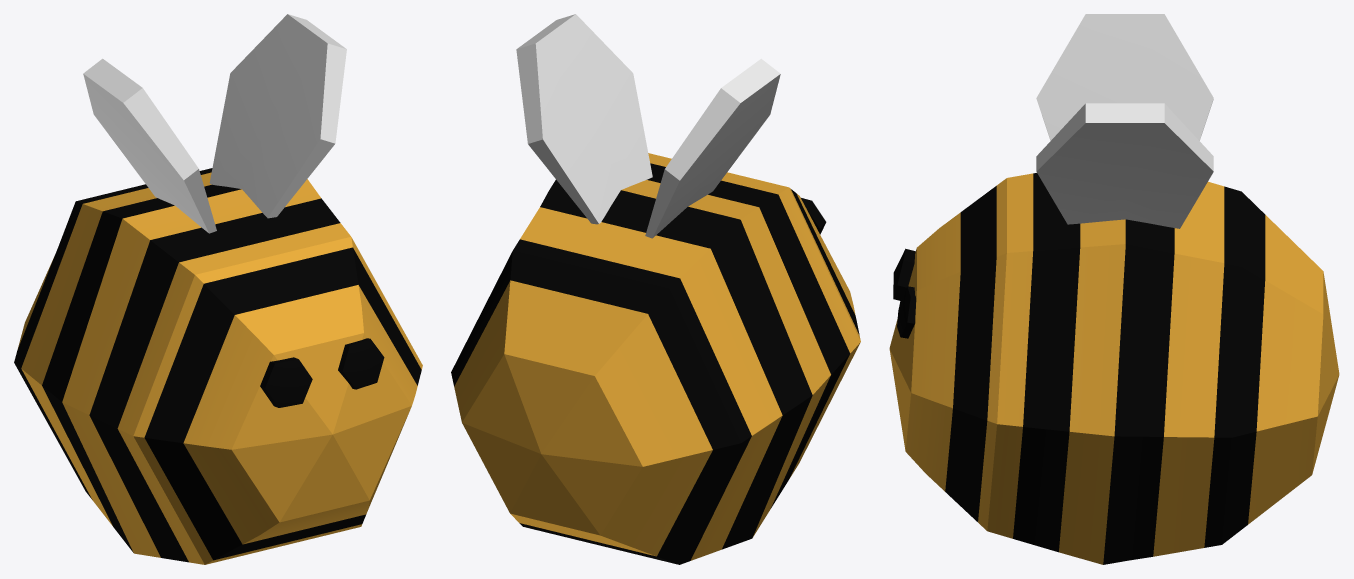
File: Bee.fbx
The picture shows the model from 3 angles, left to right: view 1: azimuth 30°, elevation 25°; view 2: azimuth 150°, elevation 25°; view 3: azimuth 270°, elevation 25°; orthographic projection.
Visible parts, largest first — view 1: pCylinder18; view 2: pCylinder18; view 3: pCylinder18.
Part boxes in pixels (x1,y1,x2,y2): pCylinder18: [14, 14, 422, 564]; pCylinder18: [451, 14, 860, 564]; pCylinder18: [889, 14, 1339, 564].
Bounding box in the file's own units: 0.00374 × 0.00539 × 0.00473.
